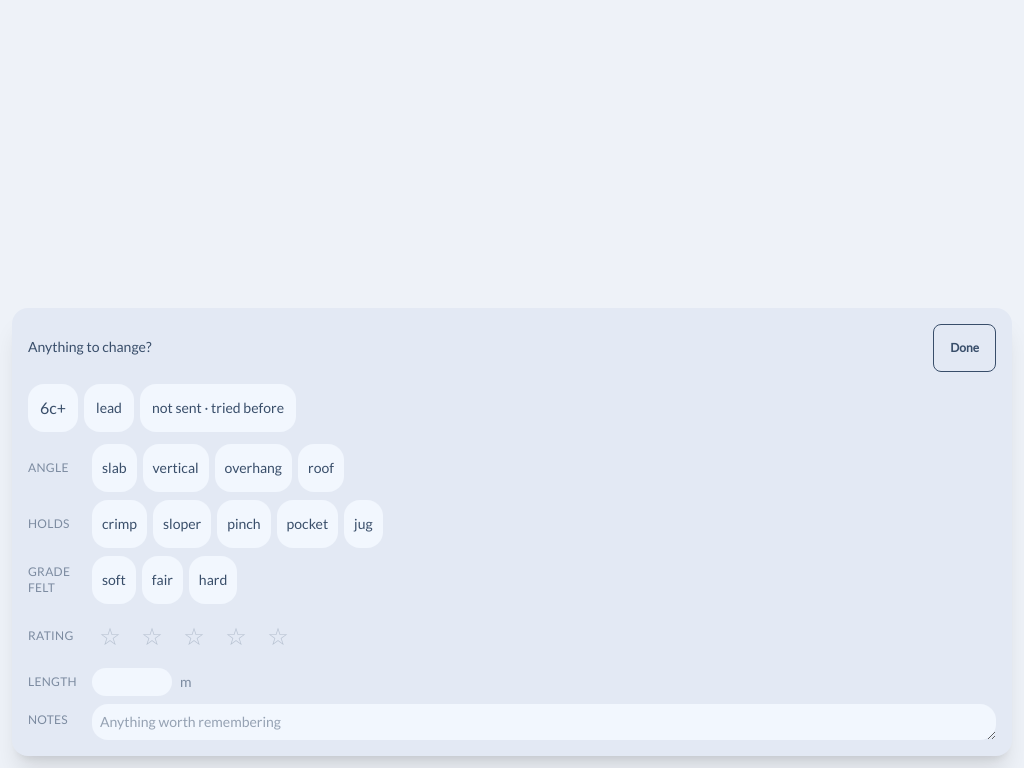
Test: correcting what was recorded › reports both halves of a corrected outcome
Click the button with aria-label "Outcome,": coordinates (218, 408) left=140, top=384, right=296, bottom=432
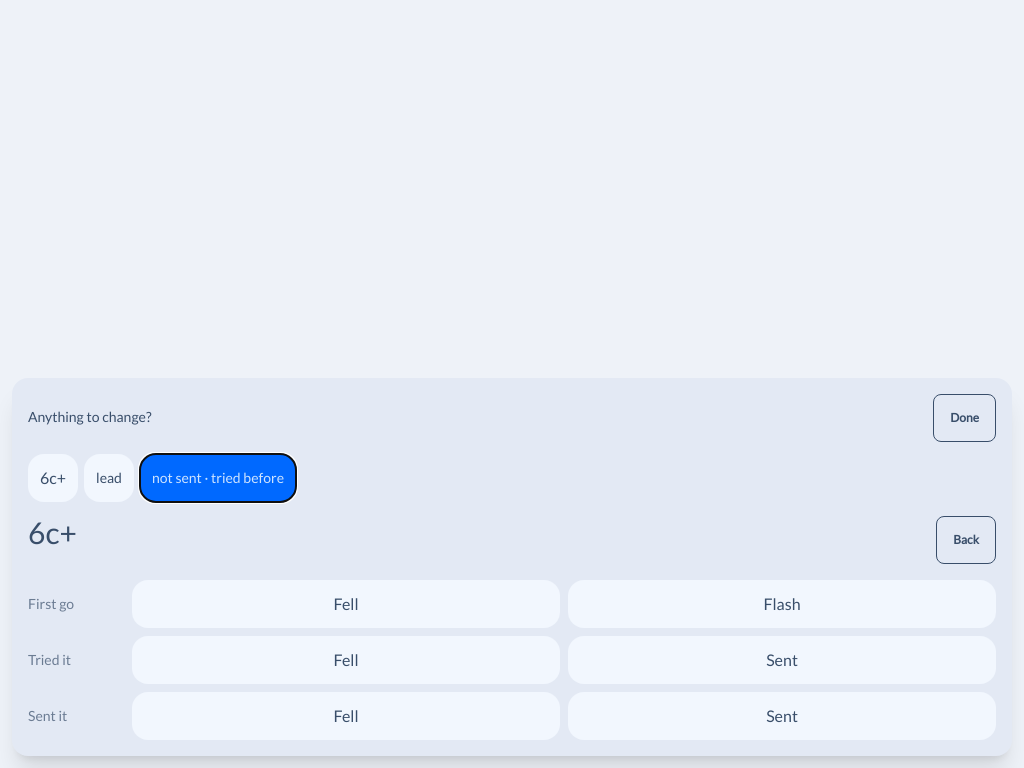
Click the button with aria-label "first go, flash": coordinates (782, 604) left=568, top=580, right=996, bottom=628
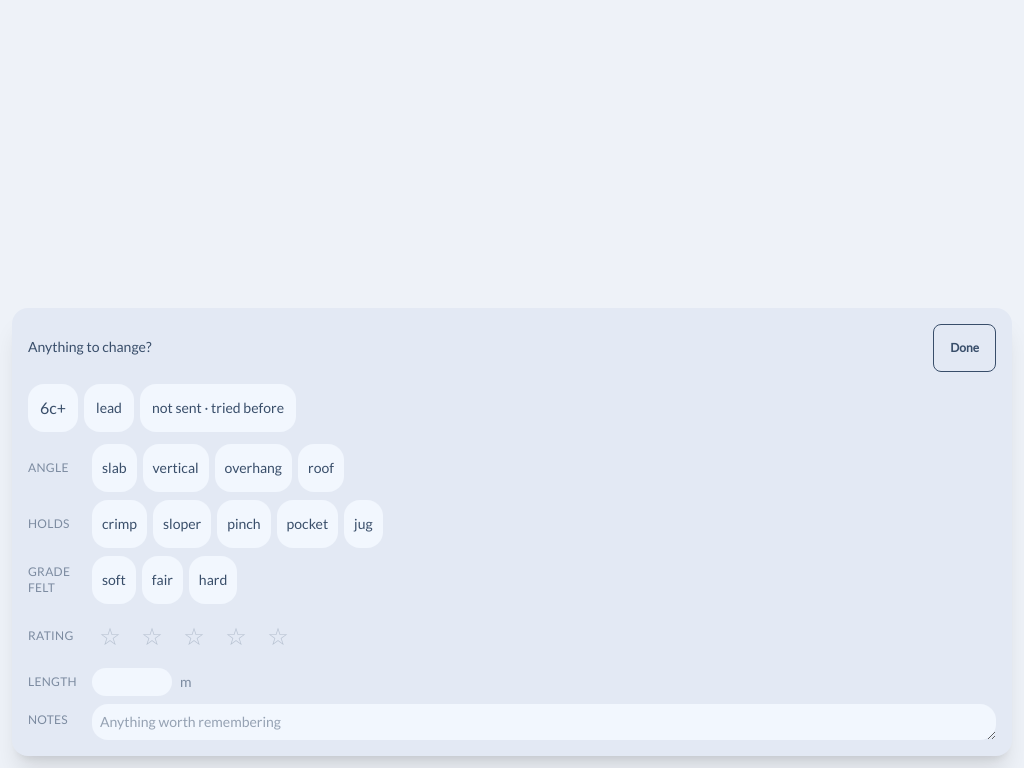
Expected: the button "overhang" is shown, left=215, top=444, right=292, bottom=492
